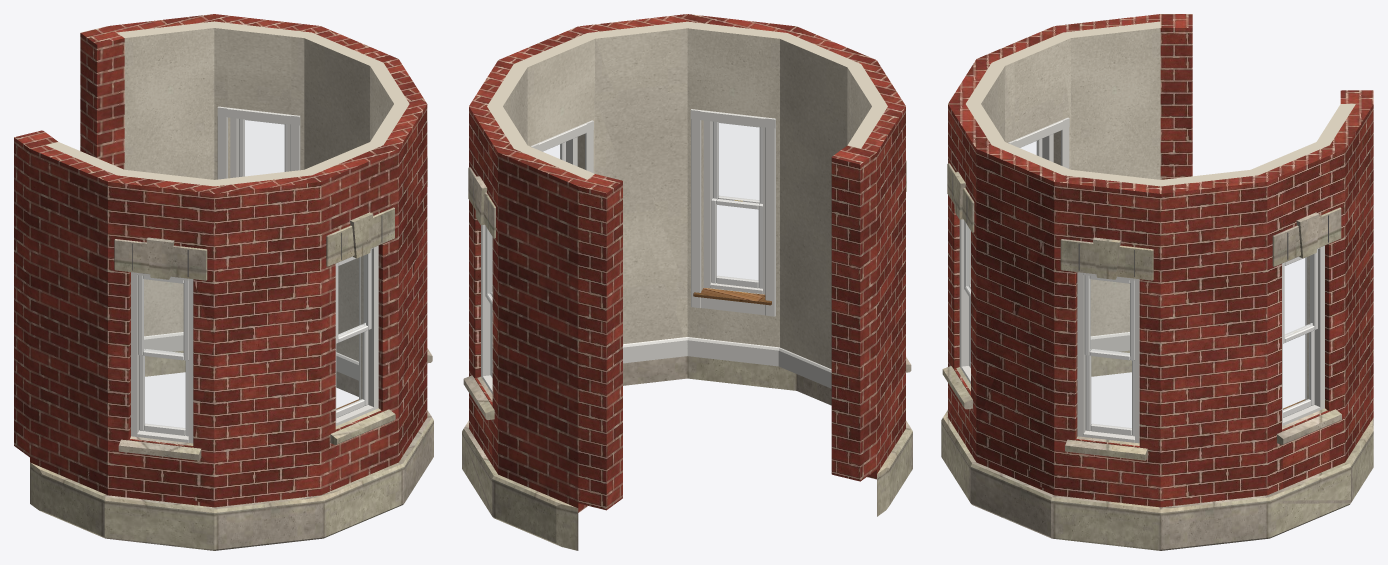
The model's file is turret1.glb.
3 renders of one model, left to right at view 1: azimuth 30°, elevation 25°; view 2: azimuth 150°, elevation 25°; view 3: azimuth 270°, elevation 25°, orthographic. The views are drawn at different scales.
Visible parts, largest first — view 1: turret1_brick, turret1_plaster, turret1_stone_t, turret1_glass, turret1_frame, turret1_sash, turret1_trim; view 2: turret1_brick, turret1_plaster, turret1_stone_t, turret1_trim, turret1_glass, turret1_frame, turret1_sash, turret1_oak; view 3: turret1_brick, turret1_stone_t, turret1_plaster, turret1_glass, turret1_frame, turret1_sash, turret1_trim.
Part boxes in pixels (x1,y1,x2,y2): turret1_brick: (14,14,427,507); turret1_plaster: (46,21,409,399); turret1_stone_t: (30,156,433,550); turret1_glass: (144,121,366,427); turret1_frame: (131,117,378,443); turret1_sash: (138,119,371,436); turret1_trim: (144,106,360,400); turret1_brick: (469,14,905,512); turret1_plaster: (487,21,887,506); turret1_stone_t: (462,160,912,550); turret1_trim: (530,109,831,388); turret1_glass: (489,123,758,297); turret1_frame: (481,120,765,394); turret1_sash: (485,121,762,377); turret1_oak: (693,288,771,305); turret1_brick: (948,14,1373,507); turret1_stone_t: (941,163,1373,550); turret1_plaster: (966,21,1355,399); turret1_glass: (967,141,1312,427); turret1_frame: (959,134,1324,443); turret1_sash: (964,139,1317,436); turret1_trim: (1008,117,1306,400).
Size of the model in its own units: 4.06 by 3.68 by 4.06.
Materials: 10 (4 with a texture image).
